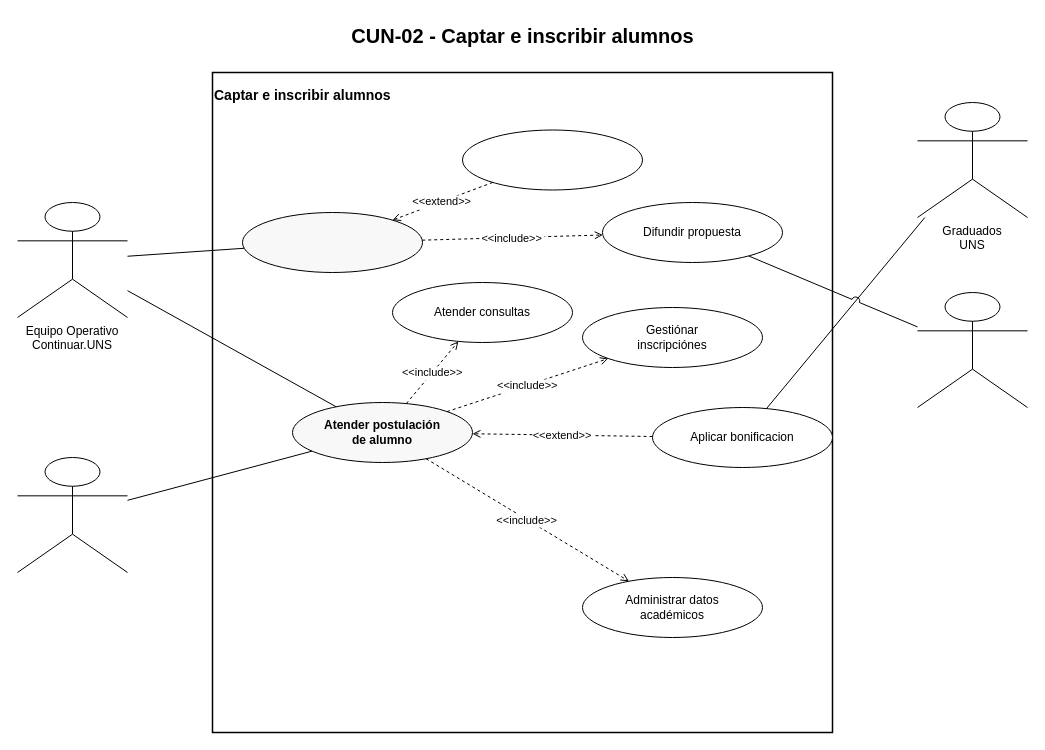
Some shapes in this 1045 by 750 pixel diagram are drawn without their labels. The box of each missing label's shape, as (x1, y1, x2, y2) in pixels:
Alumnos: (16, 456, 128, 572)
Gestiónar campañas a graduados: (462, 129, 642, 190)
Medios de Comunicación: (916, 292, 1028, 408)
Promocionar oferta de capacitación: (242, 212, 422, 272)
